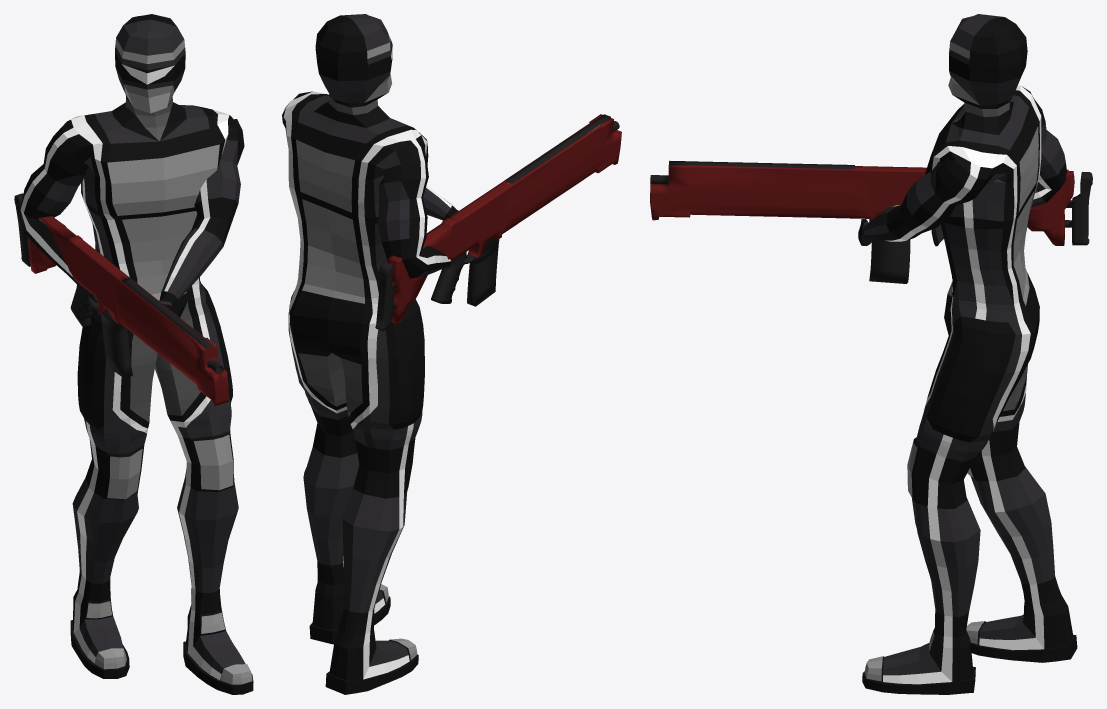
The model's file is ASI3.obj.
The picture shows the model from 3 angles, left to right: view 1: azimuth 30°, elevation 25°; view 2: azimuth 150°, elevation 25°; view 3: azimuth 270°, elevation 25°; orthographic projection.
Visible parts, largest first — view 1: metarig_object_metarig_mesh, metarig_object.001_metarig_mesh.001; view 2: metarig_object_metarig_mesh, metarig_object.001_metarig_mesh.001; view 3: metarig_object_metarig_mesh, metarig_object.001_metarig_mesh.001.
Part boxes in pixels (bbox=[...]): metarig_object_metarig_mesh: bbox=[20, 14, 253, 694]; metarig_object.001_metarig_mesh.001: bbox=[14, 193, 228, 405]; metarig_object_metarig_mesh: bbox=[282, 14, 458, 694]; metarig_object.001_metarig_mesh.001: bbox=[375, 114, 621, 330]; metarig_object_metarig_mesh: bbox=[858, 14, 1077, 694]; metarig_object.001_metarig_mesh.001: bbox=[650, 160, 1092, 283].
Size of the model in its own units: 0.5504 by 1.85 by 1.14.
Materials: 2 (2 with a texture image).
